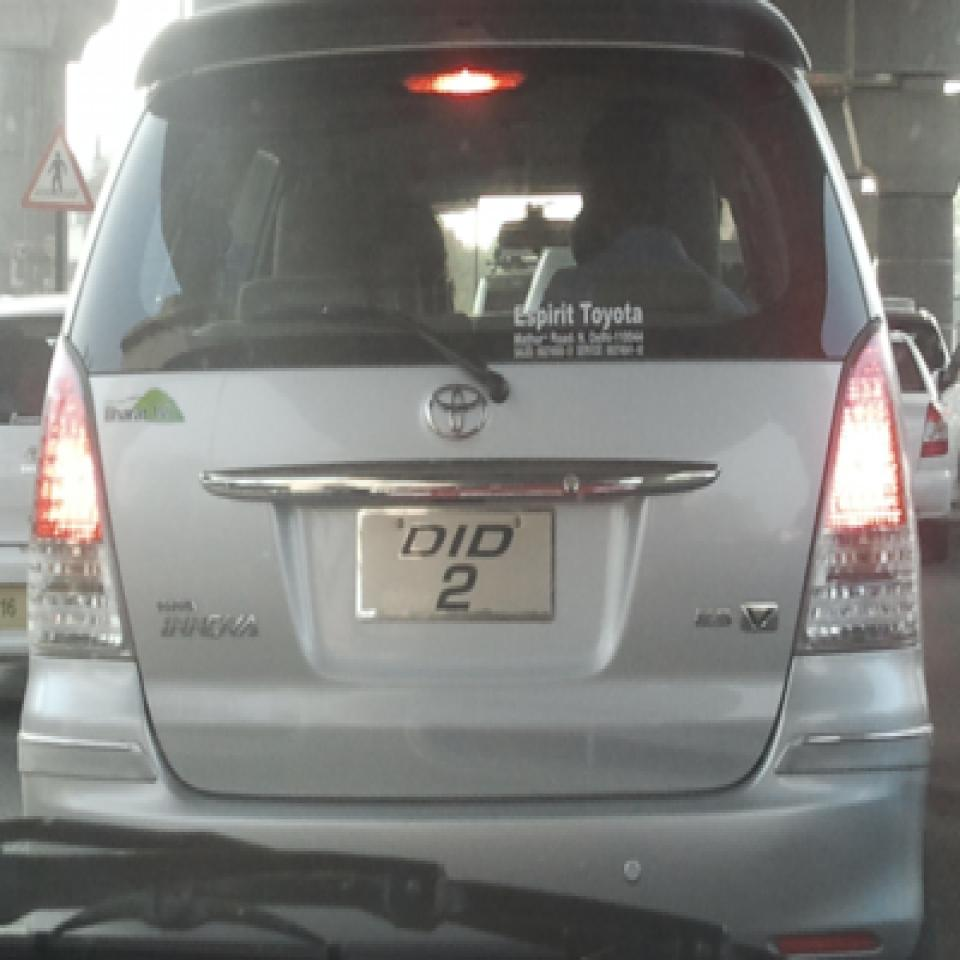licence: (358, 508, 556, 618)
